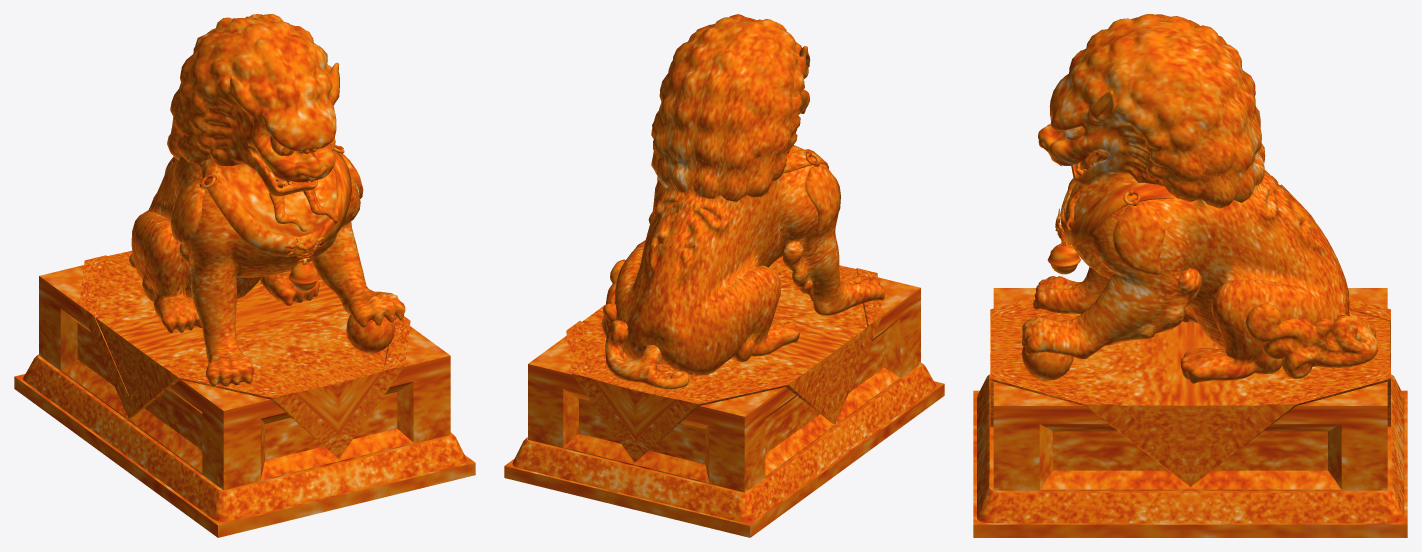
The picture shows the model from 3 angles, left to right: view 1: azimuth 30°, elevation 25°; view 2: azimuth 150°, elevation 25°; view 3: azimuth 270°, elevation 25°; orthographic projection. The views are drawn at different scales.
Parts seen in each view (by area): view 1: ssz_2; view 2: ssz_2; view 3: ssz_2.
Boxes of the visible parts, x1,y1,x2,y2 form: ssz_2: (14,14,475,537); ssz_2: (504,14,944,537); ssz_2: (973,14,1407,537).
Bounding box in the file's own units: 69.46 × 109 × 95.1.
